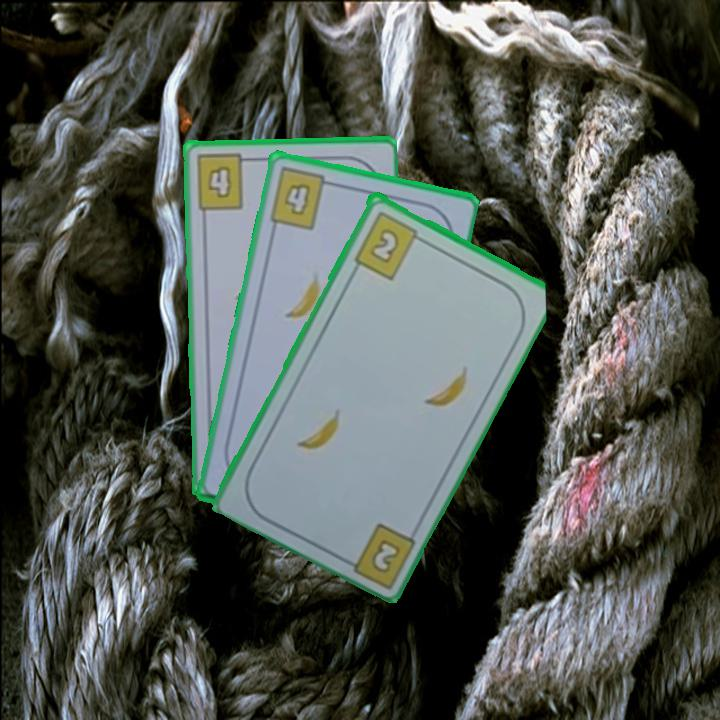2b: (350, 207, 428, 282), (367, 535, 404, 576)
4b: (265, 164, 338, 233), (192, 151, 256, 213)
